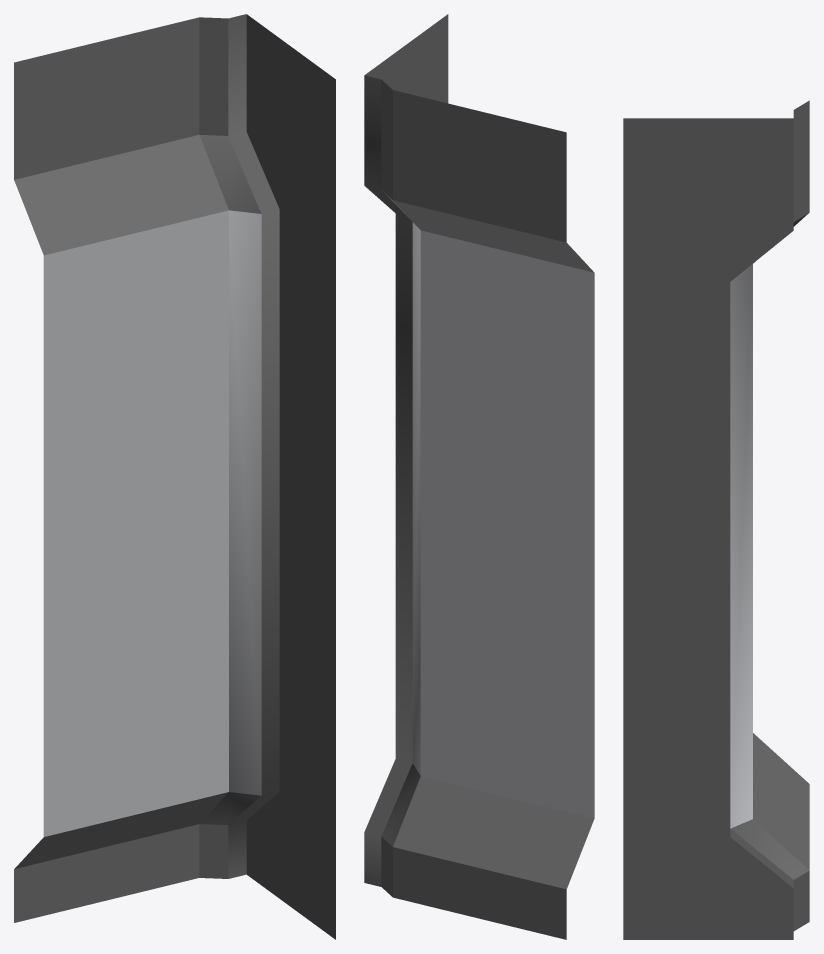
Rendered from Wall_Endcap.fbx.
3 renders of one model, left to right at view 1: azimuth 30°, elevation 25°; view 2: azimuth 150°, elevation 25°; view 3: azimuth 270°, elevation 25°, orthographic. The views are drawn at different scales.
Visible parts, largest first — view 1: Wall_Endcap; view 2: Wall_Endcap; view 3: Wall_Endcap.
Part boxes in pixels (bbox=[...]): Wall_Endcap: bbox=[14, 14, 335, 939]; Wall_Endcap: bbox=[364, 14, 594, 939]; Wall_Endcap: bbox=[623, 100, 809, 939].
Bounding box in the file's own units: 0.4007 × 1.47 × 0.3027.
Materials: 1 (1 with a texture image).
